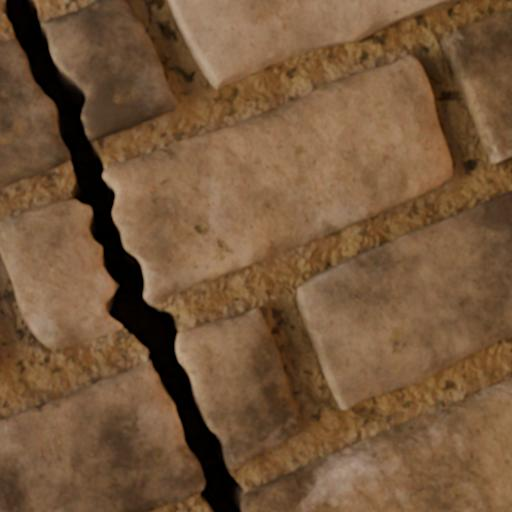brick: (297, 192, 511, 409), (168, 0, 457, 88), (441, 9, 511, 162)
broken_brick: (104, 54, 452, 303), (242, 377, 511, 511), (0, 359, 203, 511), (178, 306, 302, 468), (42, 0, 176, 141), (0, 199, 122, 349), (0, 39, 68, 189)
crack: (0, 0, 246, 511)
